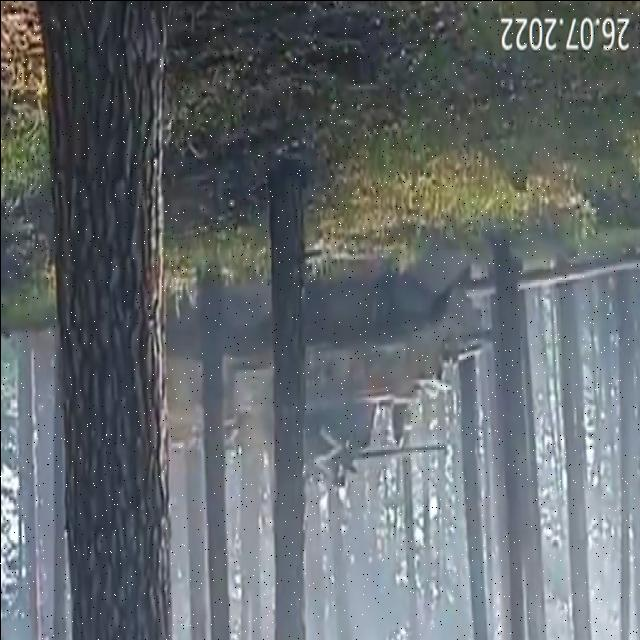APC-IFV: (120, 280, 494, 507)
